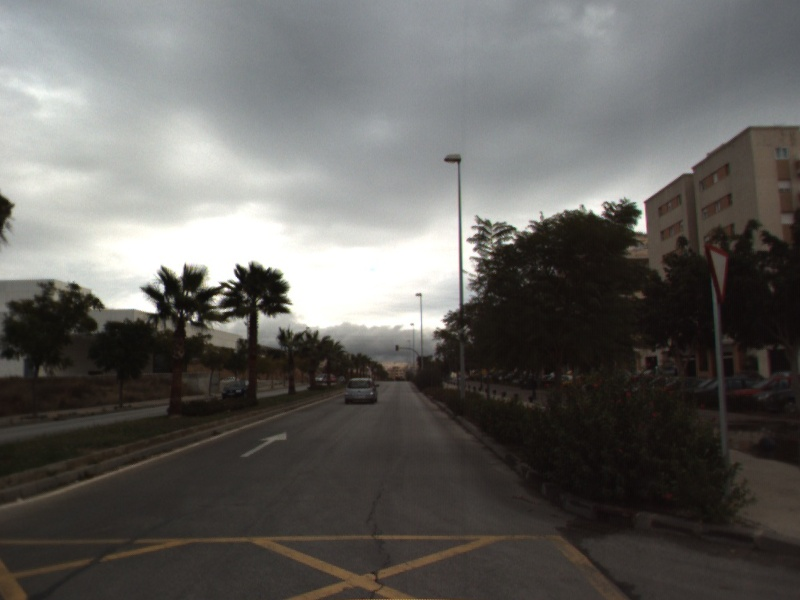STRAIGHT: (238, 430, 289, 459)
